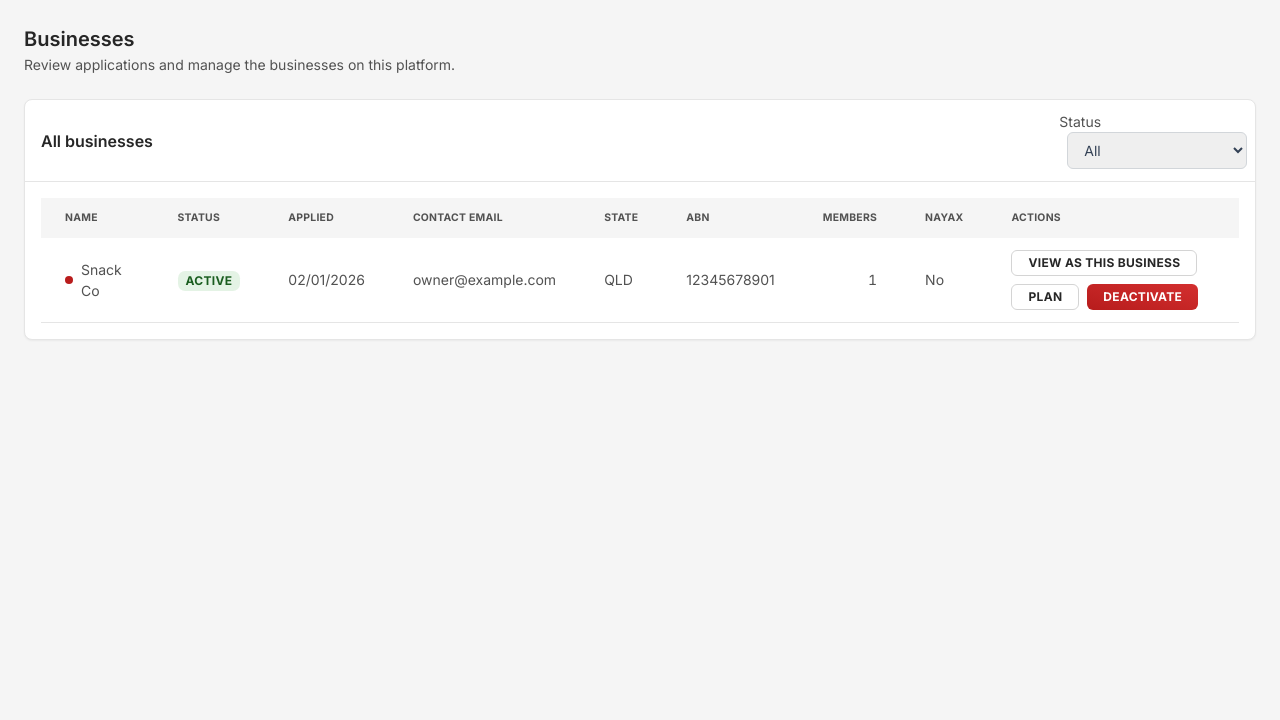
SuperAdminBusinessesComponent (issue #547) › opens the plan grant dialog for an active business
The width and height of the screenshot is (1280, 720).
What coordinates should you click on to do the following:
click the button "Plan"
I would click on:
 (1045, 297)
Its box is [1012,284,1079,310].
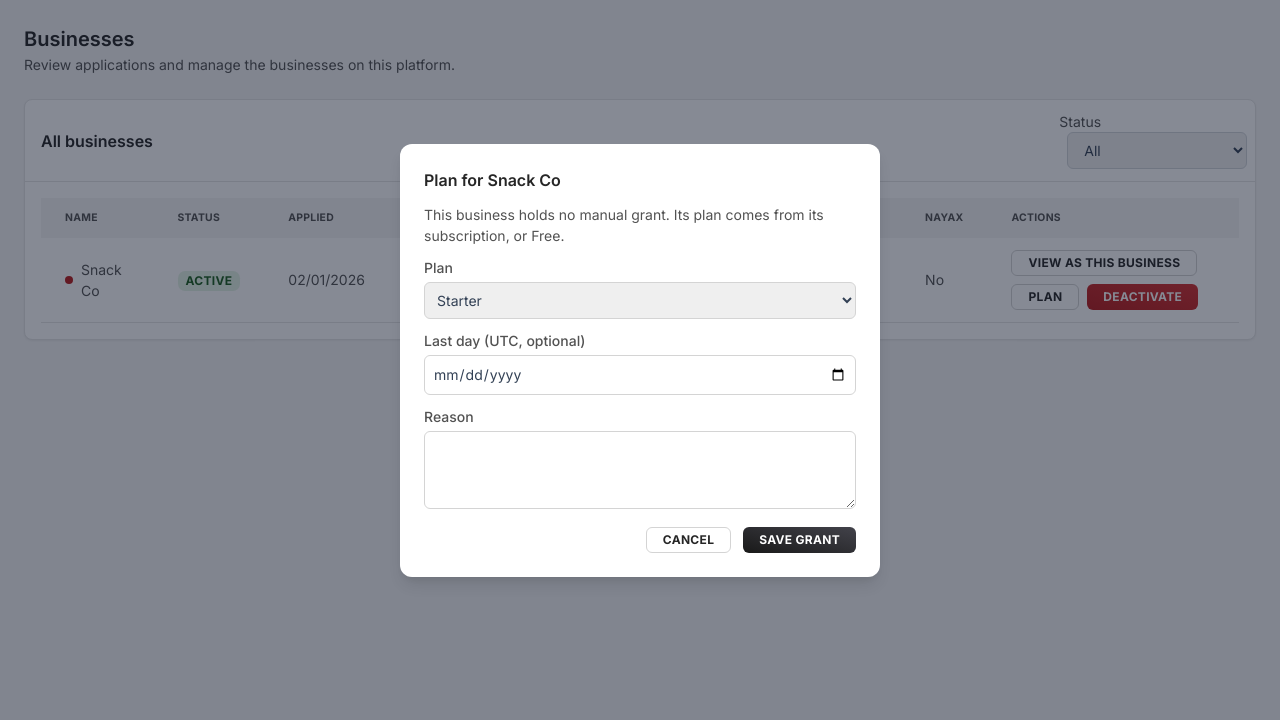
Now the text "Plan for Snack Co" is shown, box [424,170,561,190]
